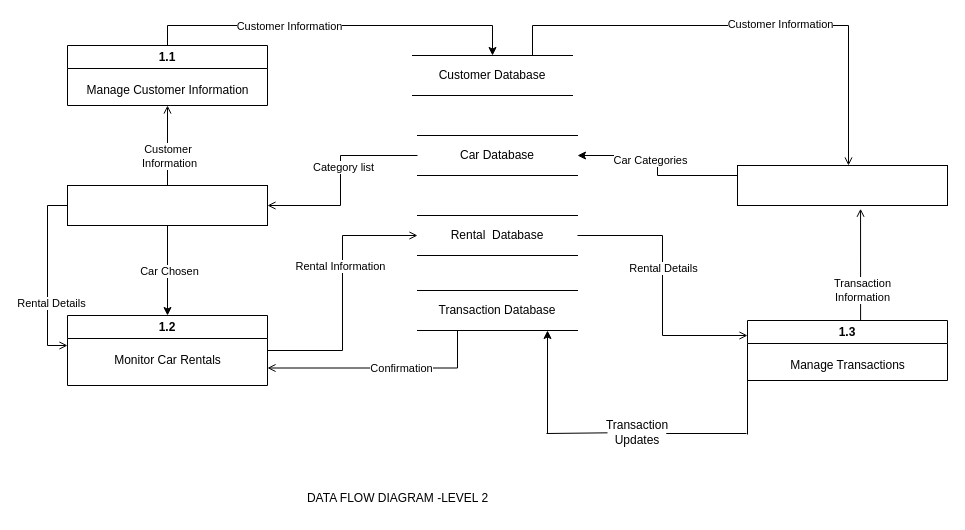
Image size: 965x530. Some labels were removed from this diagram. The shapes that lost their labels are listed below. From the top down, each one's centre as x and y in pixels, then its label:
At [167,205]: "User".
At [842,185]: "Admin".
